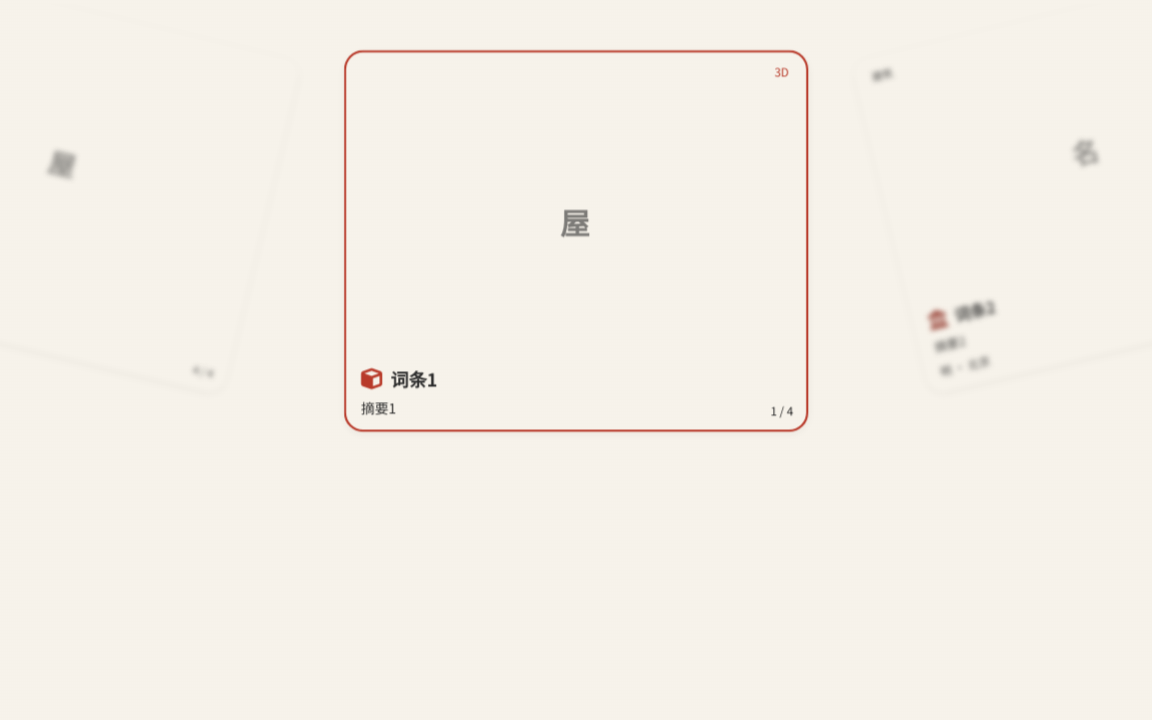
Test case: CardSwap 组件 › T-DECK-05 预览内上/下一张循环切换
Click the element showing "3D 屋 词条1 摘要1 1 / 4": x=576, y=241 [344, 50, 808, 432]
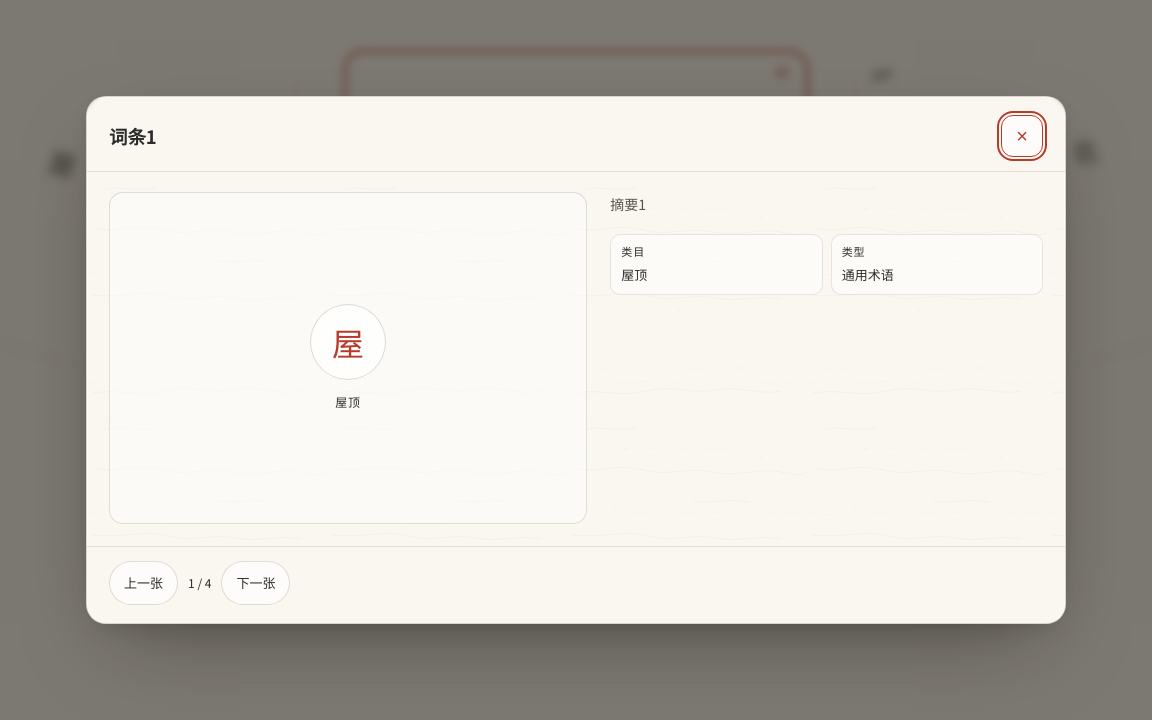
Result: the dialog with class "enc-preview-dialog" is shown
Click the button labelled "上一张": x=144, y=583 [109, 561, 178, 605]
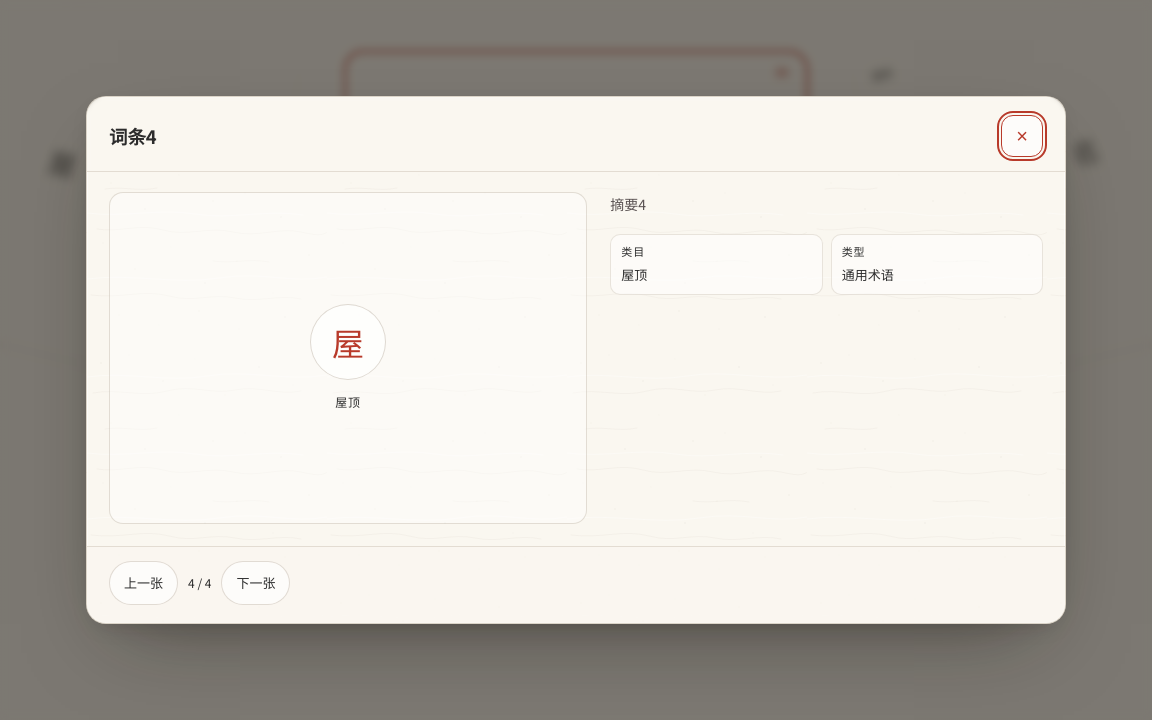
Result: the heading "词条4" is shown at [109, 123, 157, 149]
Click the button labelled "下一张": x=256, y=583 [222, 561, 290, 605]
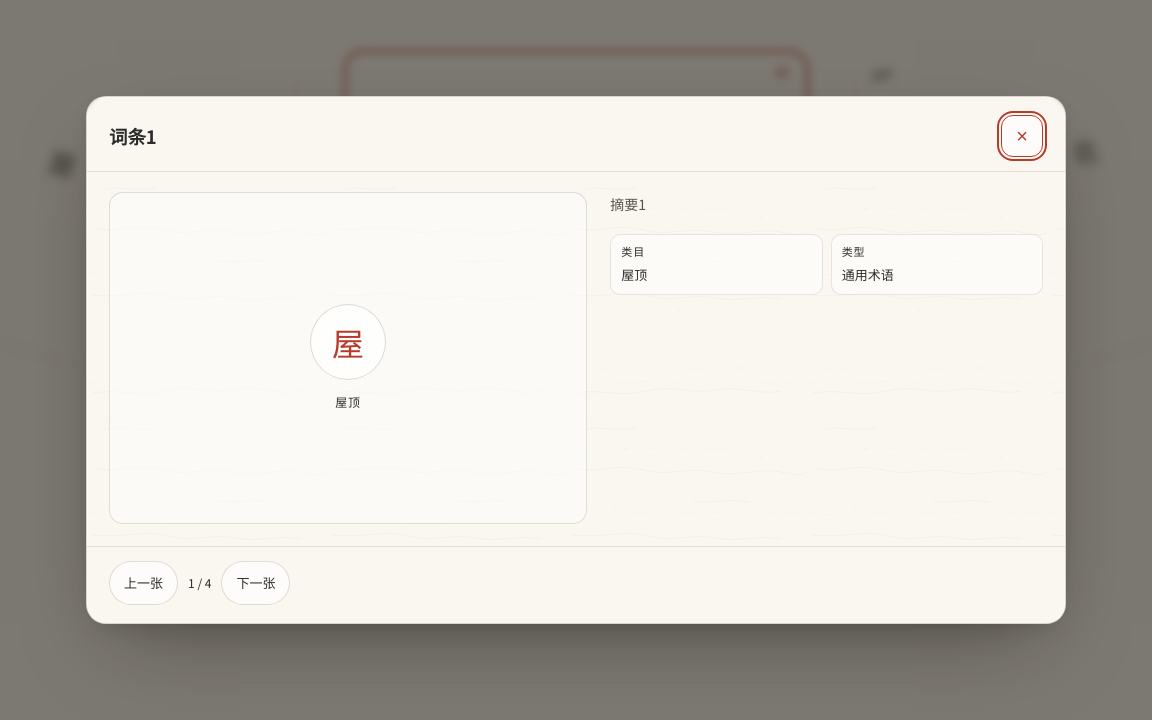
Result: the heading "词条1" is shown at [109, 123, 157, 149]
